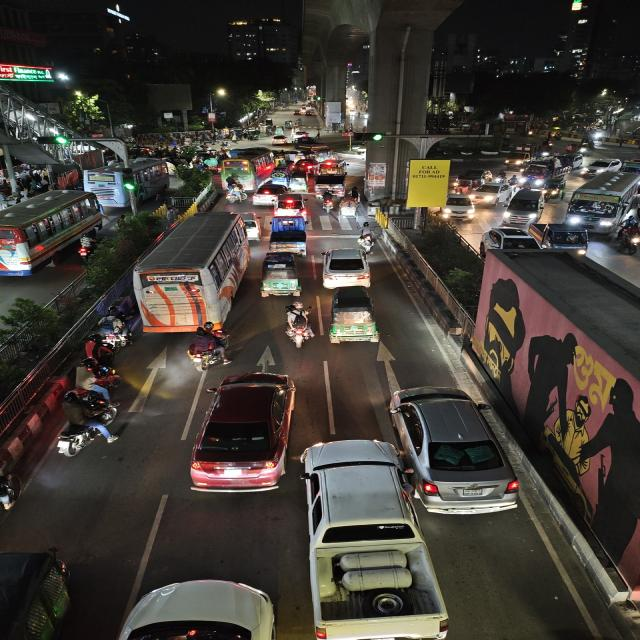bus: (131, 210, 249, 338), (0, 188, 106, 278), (83, 153, 172, 207), (564, 174, 640, 231), (221, 146, 277, 184)
car: (298, 436, 450, 640), (382, 380, 523, 520), (187, 370, 302, 496), (116, 573, 284, 640), (316, 246, 374, 288), (498, 188, 550, 223), (480, 226, 541, 253), (437, 194, 477, 221), (250, 181, 290, 207), (471, 183, 510, 205), (582, 158, 622, 175), (319, 156, 351, 176), (269, 134, 290, 146)
cng: (0, 545, 78, 640), (327, 284, 381, 349), (259, 251, 303, 301), (520, 160, 568, 189), (242, 211, 261, 242), (450, 176, 477, 195), (556, 153, 584, 171), (288, 170, 310, 192)
motorcycle: (50, 389, 123, 459), (185, 320, 233, 373), (94, 303, 137, 351), (281, 300, 315, 352), (614, 217, 640, 258), (75, 228, 103, 264), (356, 219, 378, 254), (316, 189, 339, 214), (223, 181, 246, 205)
pickup_van: (532, 222, 593, 257), (266, 213, 311, 256), (502, 146, 545, 166), (312, 172, 348, 192)
rickshaw: (331, 187, 366, 226), (269, 168, 290, 184)
